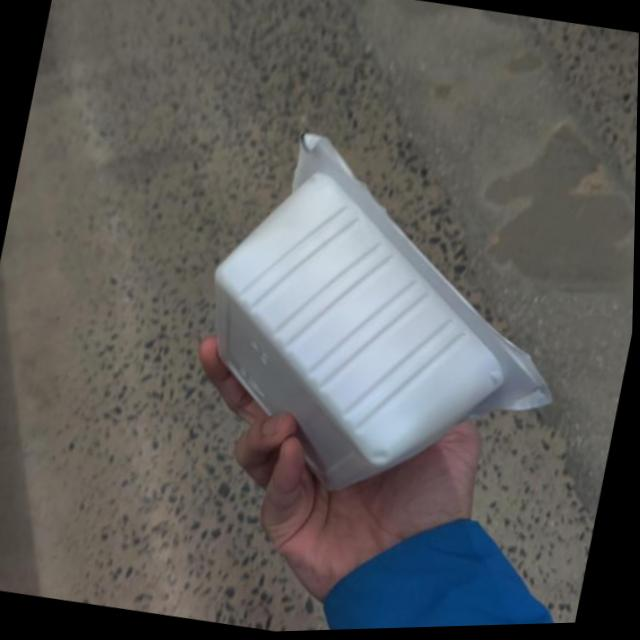Tofu: (166, 115, 609, 542)
